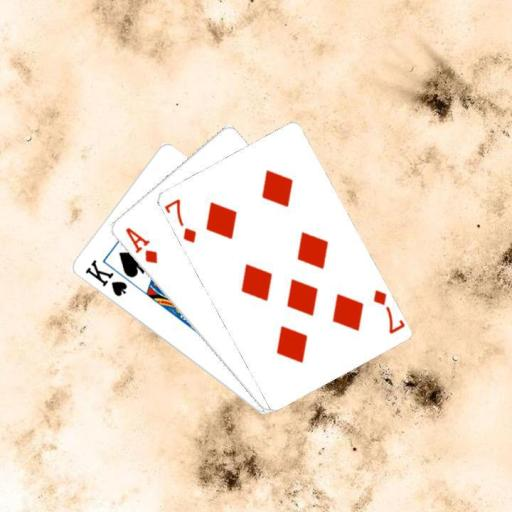7D: (369, 286, 404, 336), (163, 196, 198, 245)
AD: (122, 224, 159, 265)
KS: (81, 257, 129, 299)
